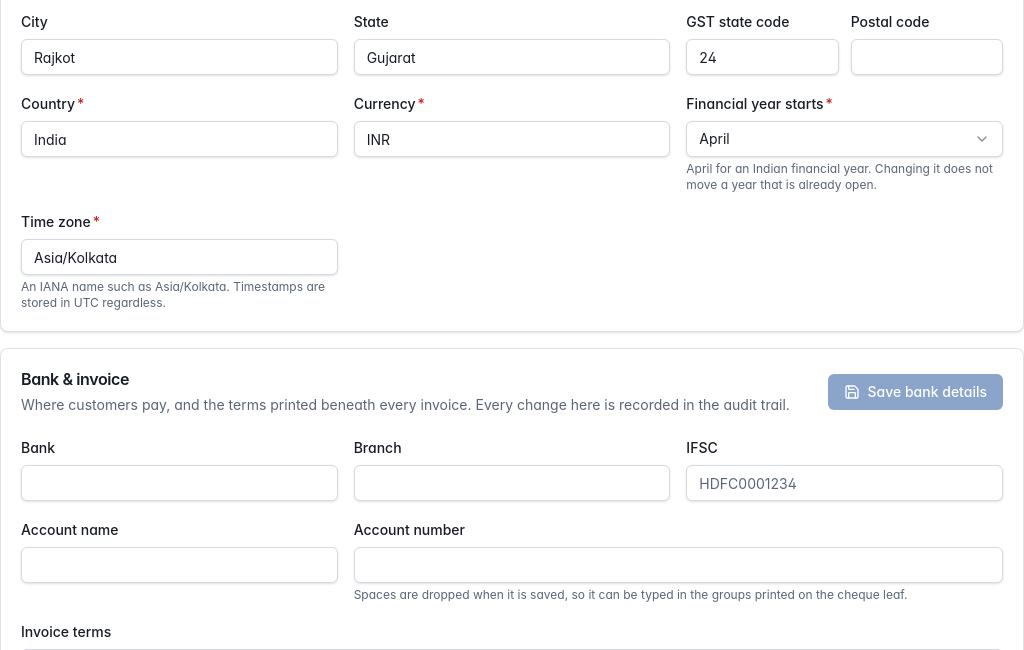
it: the bank and invoice card › refuses an IFSC of the wrong shape before anything reaches the network
(page scrolled)
Type "HDFC1001234" into the field labelled "IFSC" at x=845, y=483, box [686, 465, 1003, 501]
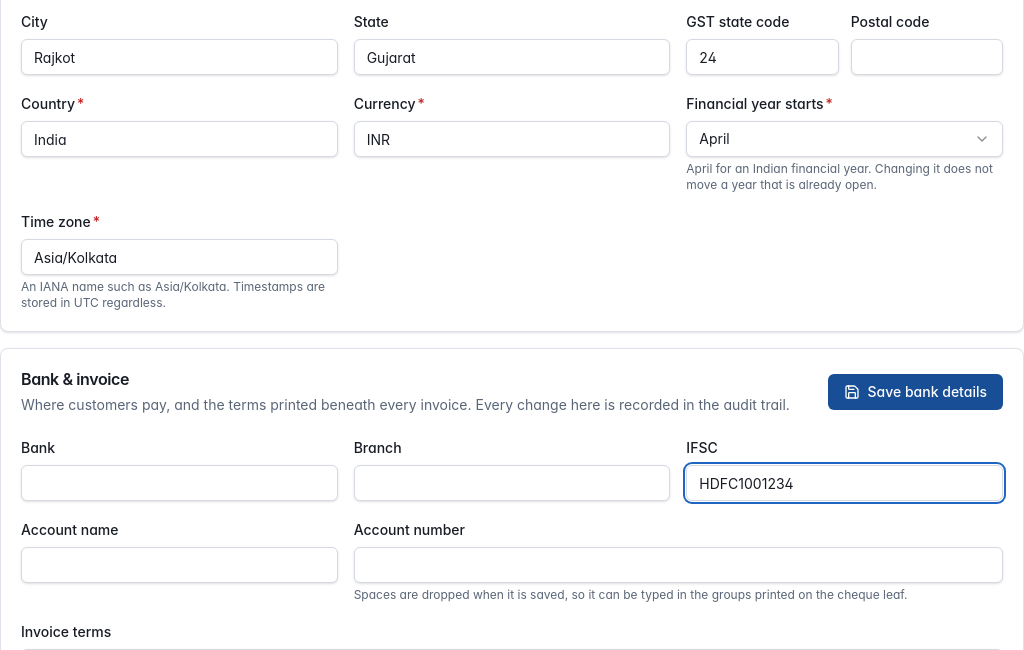
Click the button "Save bank details" at x=915, y=392, box [828, 374, 1003, 410]
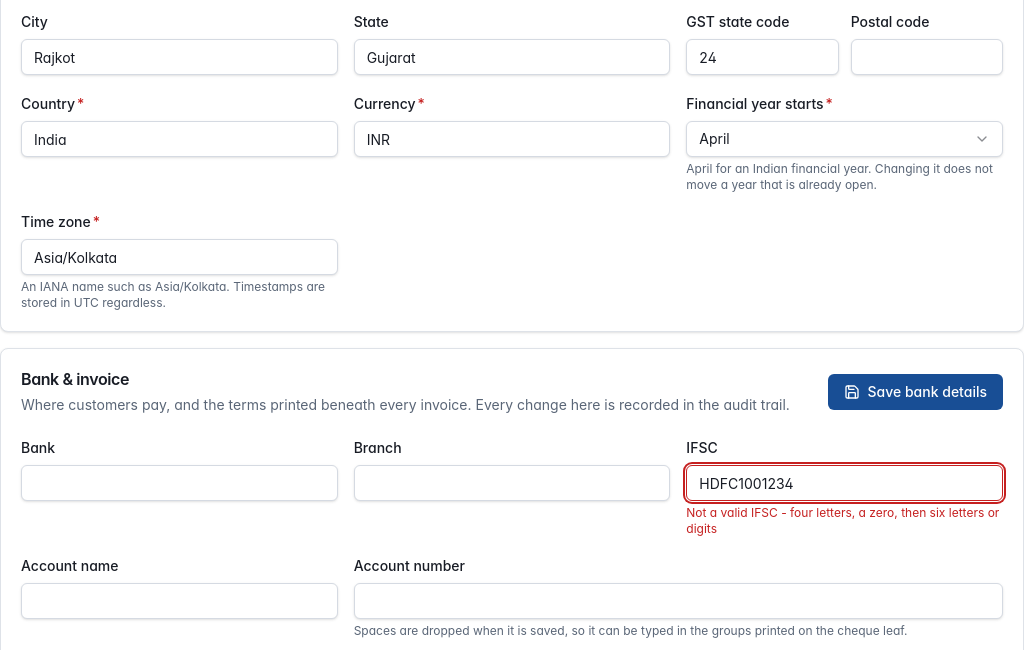
Expected: the text "Not a valid IFSC - four letters, a zero, then six letters or digits" is shown, [686, 505, 1003, 537]
